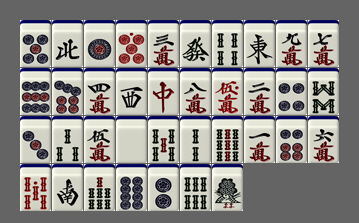0m: (212, 68, 243, 115)
0p: (116, 20, 147, 67)
0s: (20, 164, 51, 211)
1m: (244, 116, 275, 163)
1p: (84, 20, 115, 67)
1s: (212, 164, 243, 211)
1z: (244, 20, 275, 67)
2m: (244, 68, 275, 115)
2p: (148, 164, 179, 211)
2s: (180, 116, 211, 163)
2z: (52, 164, 83, 211)
3m: (148, 20, 179, 67)
3p: (20, 116, 51, 163)
3s: (52, 116, 83, 163)
3z: (116, 68, 147, 115)
4m: (84, 68, 115, 115)
4p: (276, 68, 307, 115)
4s: (212, 20, 243, 67)
4z: (52, 20, 83, 67)
5m: (84, 116, 115, 163)
5p: (20, 20, 51, 67)
5s: (148, 116, 179, 163)
5z: (116, 116, 147, 163)
6m: (308, 116, 339, 163)
6p: (276, 116, 307, 163)
6s: (180, 164, 211, 211)
6z: (180, 20, 211, 67)
7m: (308, 20, 339, 67)
7p: (52, 68, 83, 115)
7s: (84, 164, 115, 211)
7z: (148, 68, 179, 115)
8m: (180, 68, 211, 115)
8p: (116, 164, 147, 211)
8s: (308, 68, 339, 115)
9m: (276, 20, 307, 67)
9p: (20, 68, 51, 115)
9s: (212, 116, 243, 163)
